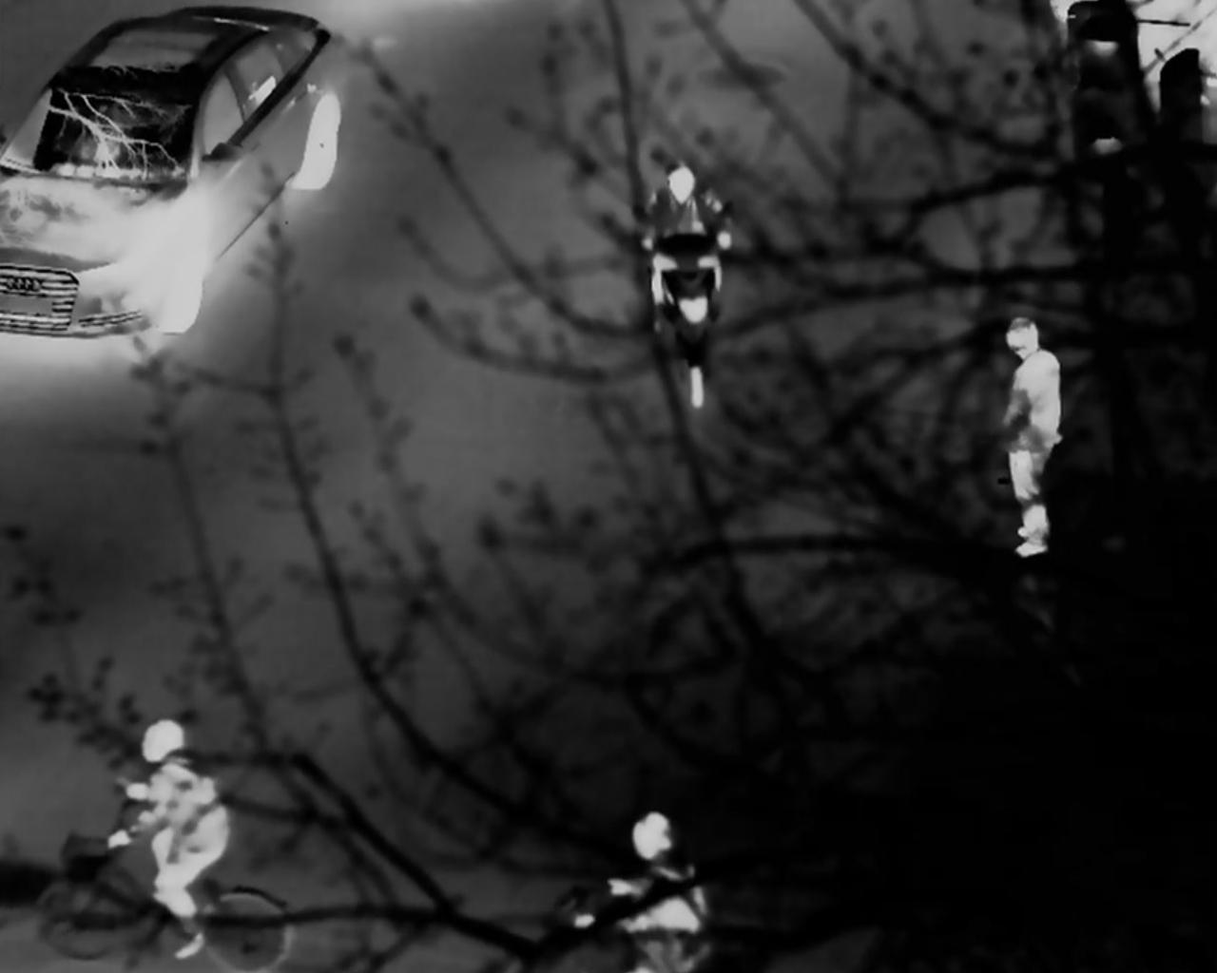person: (121, 720, 227, 937), (988, 307, 1073, 555), (647, 167, 735, 392), (608, 816, 722, 945)
